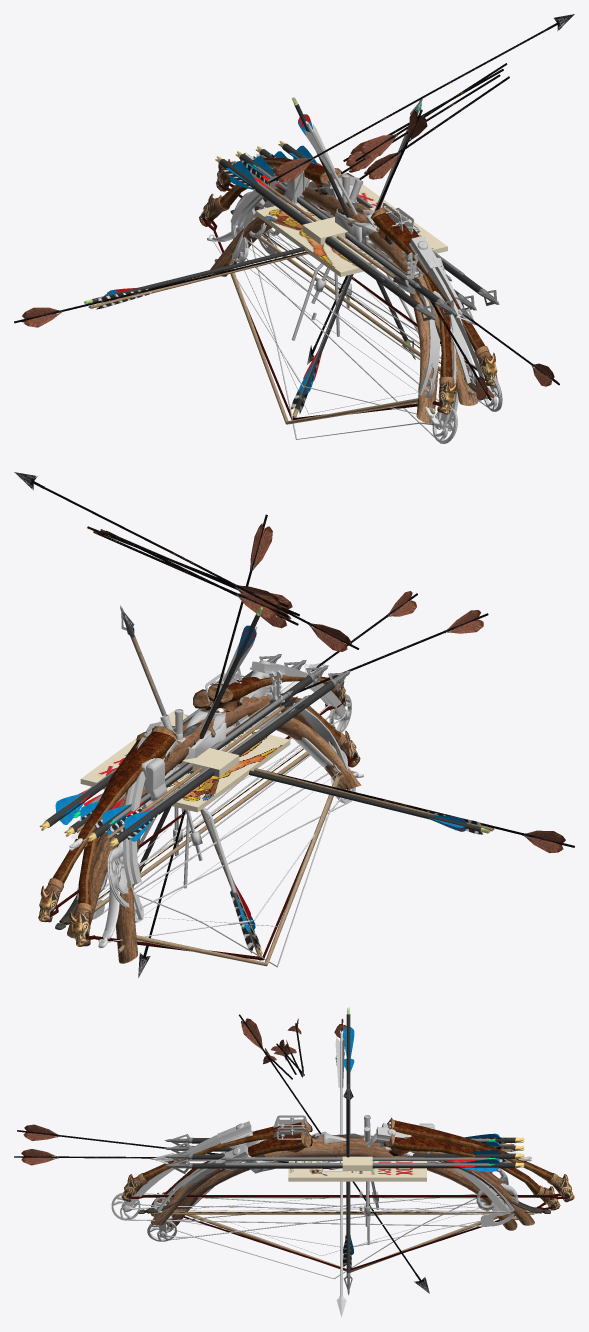
Rendered from Ranged_Weaponry_Misc.fbx.
3 views of the same model, one above another, from view 1: azimuth 30°, elevation 25°; view 2: azimuth 150°, elevation 25°; view 3: azimuth 270°, elevation 25° (orthographic). The views are drawn at different scales.
Visible parts, largest first — view 1: Arrow_carbon_pack, Arrow_metal_pack, Bow_compbound2, Bow_compbound2_ready, Bow_crafted_ready, Bow_medieval, Bow_compbound_ready, Bow_crafted, Bow_medieval_ready, QUIVER_ARROW2, Bow_compbound, QUIVER_ARROW (+12 smaller); view 2: Arrow_carbon_pack, Arrow_metal_pack, Bow_medieval, Bow_crafted_ready, Bow_compbound2_ready, Bow_compbound2, Bow_crafted, Bow_medieval_ready, Bow_compbound_ready, QUIVER_ARROW2, Bow_compbound, QUIVER_ARROW (+12 smaller); view 3: Bow_compbound2, Bow_medieval, Arrow_metal_pack, Arrow_carbon_pack, Bow_crafted_ready, Bow_medieval_ready, Bow_compbound2_ready, Bow_crafted, Bow_compbound, Bow_compbound_ready, Arrow_carbon_floor, Arrow_wood_floor (+6 smaller).
Part boxes in pixels (x1,y1,x2,y2): Arrow_carbon_pack: [215, 140, 499, 321]; Arrow_metal_pack: [253, 156, 464, 292]; Bow_compbound2: [258, 178, 502, 411]; Bow_compbound2_ready: [230, 171, 459, 443]; Bow_crafted_ready: [210, 202, 438, 424]; Bow_medieval: [216, 158, 497, 386]; Bow_compbound_ready: [232, 171, 440, 414]; Bow_crafted: [254, 184, 478, 405]; Bow_medieval_ready: [199, 167, 457, 419]; QUIVER_ARROW2: [341, 63, 509, 179]; Bow_compbound: [265, 172, 476, 384]; QUIVER_ARROW: [268, 14, 574, 183]; Arrow_carbon_pack: [39, 654, 350, 847]; Arrow_metal_pack: [64, 688, 310, 824]; Bow_medieval: [38, 675, 346, 922]; Bow_crafted_ready: [116, 710, 361, 966]; Bow_compbound2_ready: [107, 692, 355, 967]; Bow_compbound2: [77, 660, 351, 919]; Bow_crafted: [67, 695, 318, 938]; Bow_medieval_ready: [69, 689, 360, 960]; Bow_compbound_ready: [122, 671, 348, 926]; QUIVER_ARROW2: [87, 526, 299, 628]; Bow_compbound: [76, 667, 302, 899]; QUIVER_ARROW: [14, 472, 359, 651]; Bow_compbound2: [111, 1121, 518, 1226]; Bow_medieval: [121, 1117, 574, 1202]; Arrow_metal_pack: [220, 1134, 495, 1181]; Arrow_carbon_pack: [164, 1133, 524, 1181]; Bow_crafted_ready: [166, 1141, 518, 1272]; Bow_medieval_ready: [150, 1131, 560, 1270]; Bow_compbound2_ready: [147, 1122, 508, 1278]; Bow_crafted: [150, 1134, 534, 1225]; Bow_compbound: [153, 1115, 518, 1244]; Bow_compbound_ready: [192, 1126, 490, 1255]; Arrow_carbon_floor: [343, 1007, 354, 1295]; Arrow_wood_floor: [335, 1030, 346, 1316].
Size of the model in its own units: 0.8532 by 0.574 by 0.9425.
